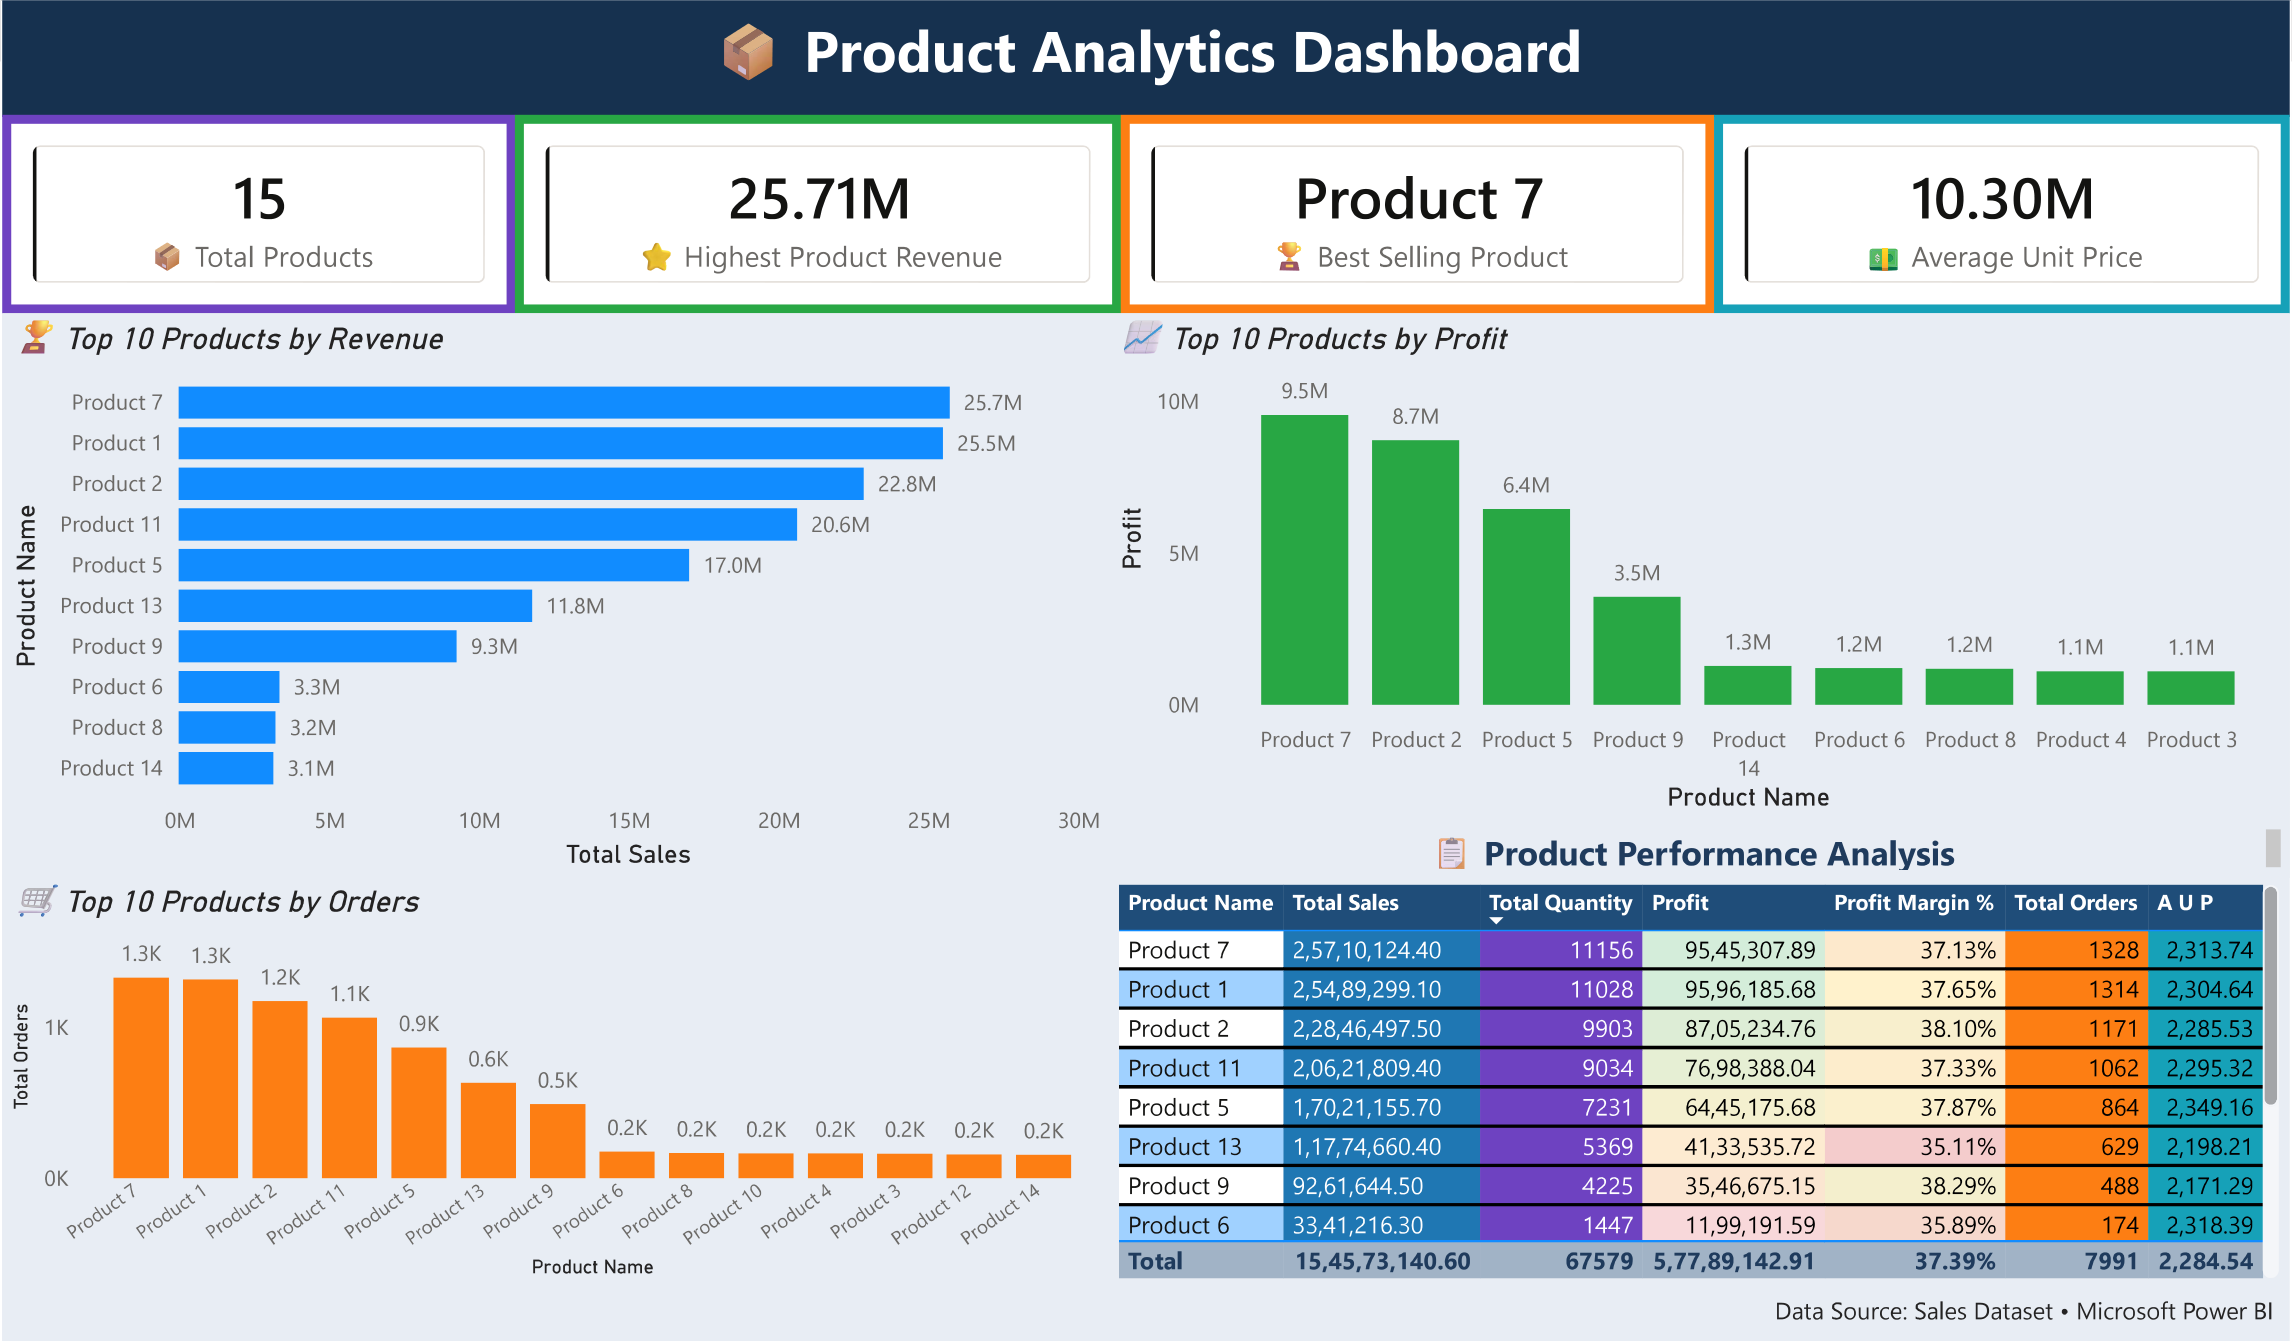

The dashboard page shown, as its layout file describes it:
{"tool":"powerbi","page":{"name":"Page 3","canvas":[1280,750],"ordinal":2},"visuals":[{"type":"textbox","box":[0,0,1280.3,64.6],"z":0},{"type":"cardVisual","fields":{"Data":["KPI_Measures2.Total Products"]},"box":[0,64,286.8,110.9],"z":1000},{"type":"cardVisual","fields":{"Data":["KPI_Measures2.Highest Product Revenue"]},"box":[286.8,64,338.7,110.9],"z":2000},{"type":"cardVisual","fields":{"Data":["KPI_Measures2.Best Selling Product"]},"box":[625.5,64,332.7,110.9],"z":3000},{"type":"cardVisual","fields":{"Data":["KPI_Measures2.Avg Revenue per Product"]},"box":[958.3,64,321.7,110.9],"z":4000},{"type":"barChart","title":"🏆 Top 10 Products by Revenue","fields":{"Category":["Products.Product Name"],"Y":["KPI_Measures1.Total Sales"]},"box":[0,175,619.3,316.4],"z":5000},{"type":"clusteredColumnChart","title":"📈 Top 10 Products by Profit","fields":{"Category":["Products.Product Name"],"Y":["KPI_Measures1.Profit"]},"box":[619.3,175,661,284.1],"z":6000},{"type":"columnChart","title":"🛒 Top 10 Products by Orders","fields":{"Category":["Products.Product Name"],"Y":["KPI_Measures1.Total Orders"]},"box":[0,490,619.3,230.2],"z":7000},{"type":"tableEx","fields":{"Values":["Products.Product Name","KPI_Measures1.Total Sales","KPI_Measures1.Total Quantity","KPI_Measures1.Profit","KPI_Measures1.Profit Margin %","KPI_Measures1.Total Orders","KPI_Measures1.Avg Unit Price"]},"box":[619.2,489.7,659.7,230.7],"z":8000},{"type":"textbox","box":[619.3,459.1,661,32.3],"z":9000},{"type":"textbox","box":[0,720.4,1278.9,29.7],"z":10000}]}

Visuals, with their boxes in screenshot pixels (x1, y1, x2, y2), scaled from the page's 1280x750 canvas onto the 2292x1341 screenshot:
textbox: x1=0, y1=0, x2=2291, y2=116
cardVisual - KPI_Measures2.Total Products: x1=0, y1=114, x2=514, y2=313
cardVisual - KPI_Measures2.Highest Product Revenue: x1=514, y1=114, x2=1120, y2=313
cardVisual - KPI_Measures2.Best Selling Product: x1=1120, y1=114, x2=1716, y2=313
cardVisual - KPI_Measures2.Avg Revenue per Product: x1=1716, y1=114, x2=2291, y2=313
"🏆 Top 10 Products by Revenue" barChart: x1=0, y1=313, x2=1109, y2=879
"📈 Top 10 Products by Profit" clusteredColumnChart: x1=1109, y1=313, x2=2291, y2=821
"🛒 Top 10 Products by Orders" columnChart: x1=0, y1=876, x2=1109, y2=1288
tableEx - Products.Product Name x KPI_Measures1.Total Sales: x1=1109, y1=876, x2=2290, y2=1288
textbox: x1=1109, y1=821, x2=2291, y2=879
textbox: x1=0, y1=1288, x2=2290, y2=1340
